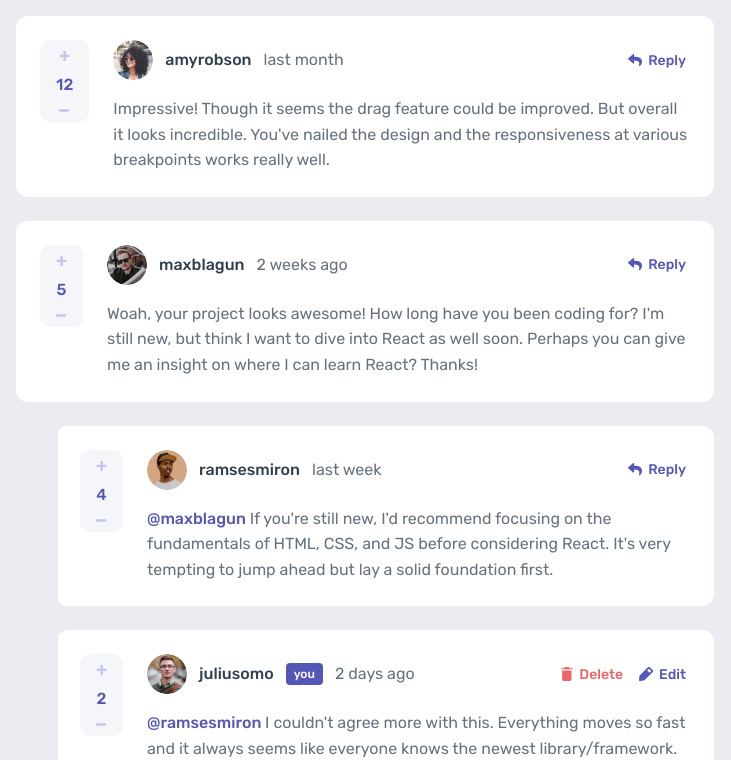
App integration › clicking Reply opens reply form
Click the button "Reply" in the row of "last month". click: click(657, 60)
box: [624,46,690,74]
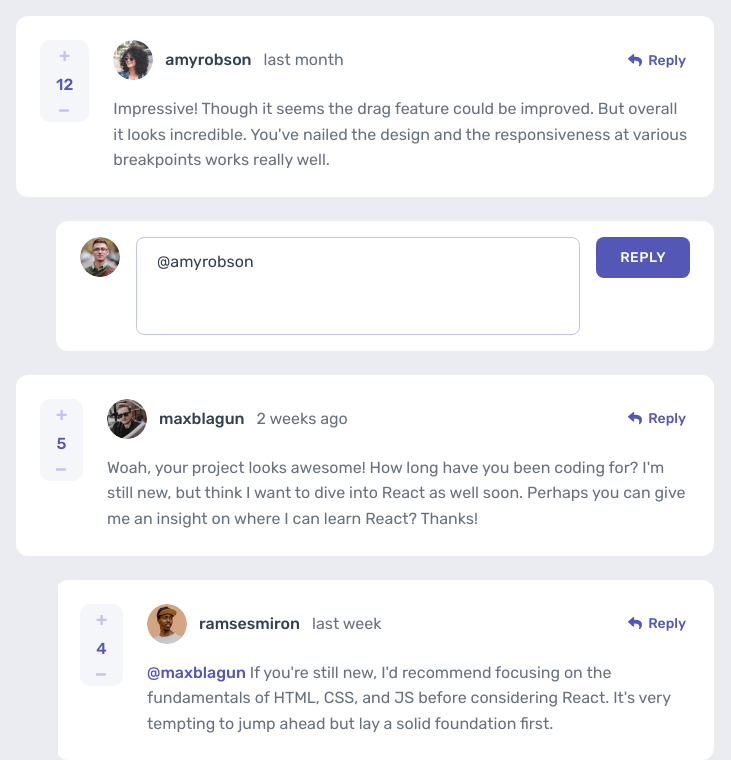
Expected: the button "REPLY" is shown, [596,237,690,278]
